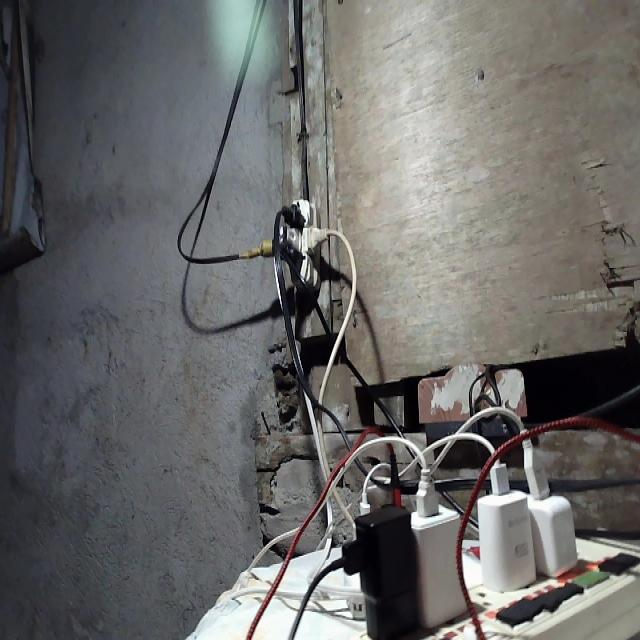-: (260, 193, 333, 291)
